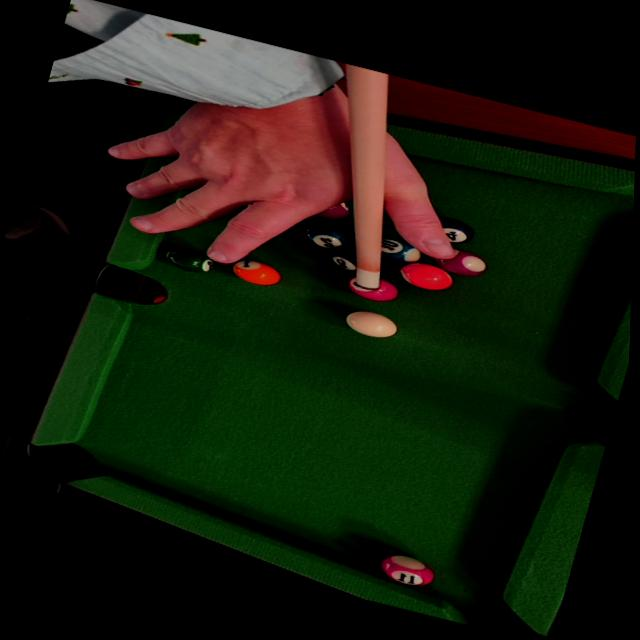cue ball: (324, 301, 402, 344)
other: (388, 250, 458, 296), (428, 241, 499, 282), (374, 547, 440, 590), (417, 207, 483, 249), (223, 252, 285, 292), (368, 230, 430, 268), (157, 242, 222, 278), (299, 219, 354, 252)
